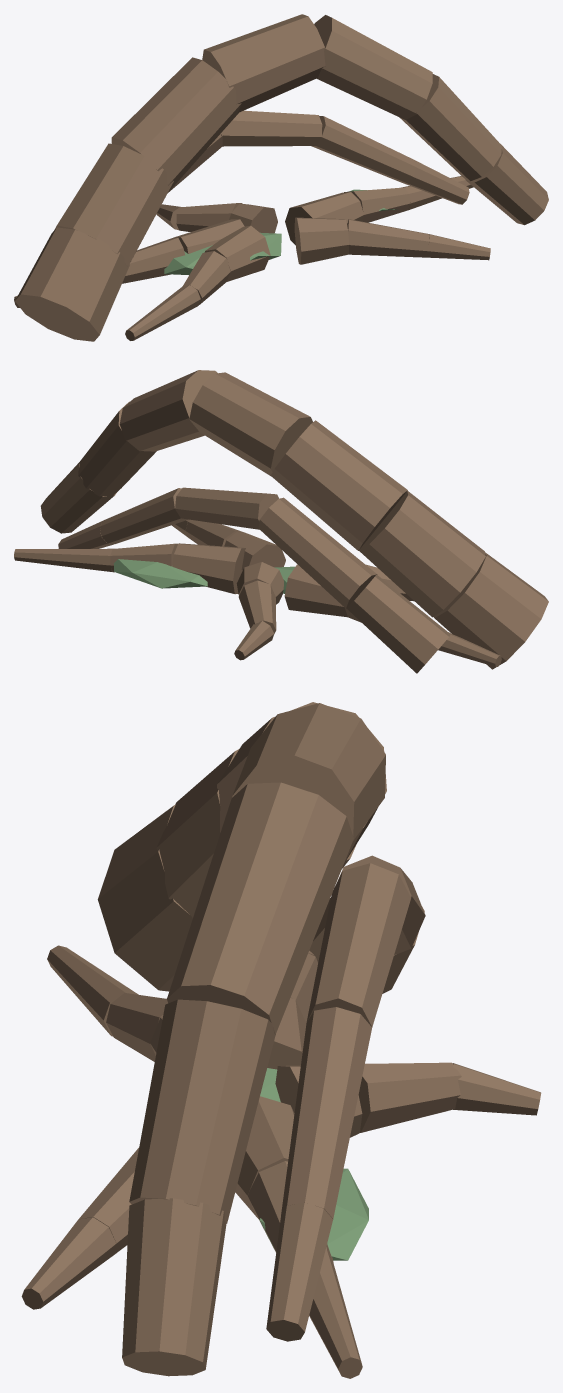
File: myb_forest_root_arch_a.fbx
The picture shows the model from 3 angles, top to bottom: view 1: azimuth 30°, elevation 25°; view 2: azimuth 150°, elevation 25°; view 3: azimuth 270°, elevation 25°; orthographic projection. The views are drawn at different scales.
Parts seen in each view (by area): view 1: myb_forest_root_arch_a; view 2: myb_forest_root_arch_a; view 3: myb_forest_root_arch_a.
Part boxes in pixels (x1,y1,x2,y2): myb_forest_root_arch_a: (14,14,548,341); myb_forest_root_arch_a: (14,370,548,673); myb_forest_root_arch_a: (21,702,541,1378).
Size of the model in its own units: 3.28 by 1.5 by 1.45.
